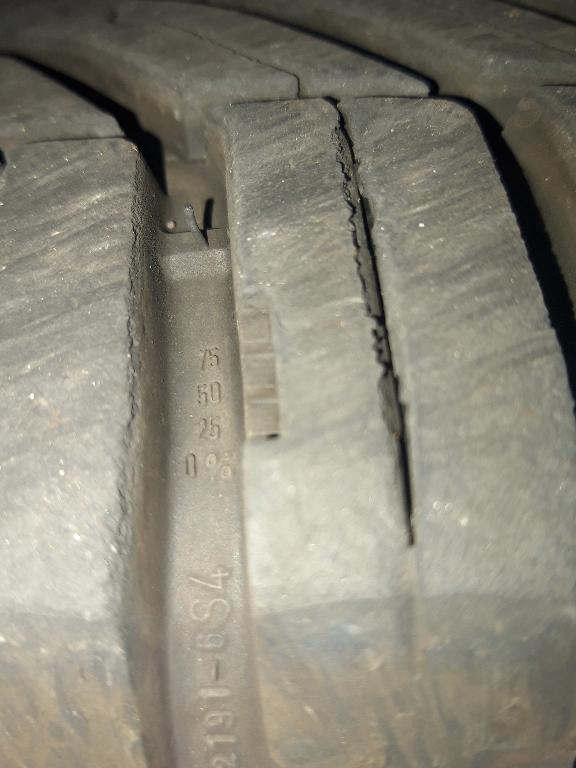temoin:90: (226, 248, 292, 458)
